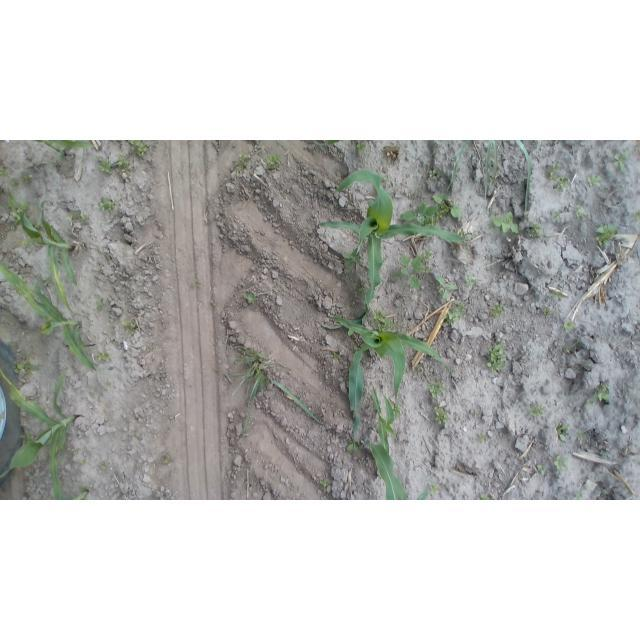Maize: (316, 167, 466, 329), (329, 314, 453, 450), (0, 261, 106, 376), (0, 365, 78, 500), (7, 186, 80, 314), (362, 439, 430, 500), (370, 386, 398, 455), (34, 140, 95, 162), (63, 490, 89, 500), (313, 141, 359, 146)
Weeds: (234, 344, 323, 428), (447, 140, 534, 212), (392, 254, 424, 291), (399, 202, 437, 225), (433, 194, 462, 219), (439, 302, 465, 327), (492, 211, 520, 233), (487, 340, 506, 372), (436, 275, 458, 302), (9, 198, 28, 226), (371, 309, 395, 331), (596, 224, 616, 247), (14, 358, 41, 375), (343, 248, 361, 269), (129, 140, 148, 157), (614, 152, 629, 173), (98, 197, 116, 213), (596, 384, 611, 403), (434, 406, 449, 425), (554, 421, 567, 442), (525, 221, 541, 238), (116, 156, 131, 174), (120, 319, 136, 334), (97, 160, 113, 175), (546, 163, 560, 180), (429, 382, 443, 399), (528, 404, 546, 417), (429, 166, 445, 180), (236, 153, 248, 171), (575, 205, 590, 219), (347, 440, 363, 453), (556, 179, 569, 194), (554, 455, 567, 470), (268, 154, 281, 168), (490, 303, 503, 316), (353, 280, 367, 292), (562, 322, 577, 333), (587, 175, 601, 186), (391, 404, 401, 419), (243, 292, 258, 302), (464, 275, 476, 287), (97, 351, 111, 361), (31, 219, 43, 230), (537, 463, 546, 477), (355, 141, 366, 152), (320, 478, 329, 490), (430, 483, 439, 495), (423, 250, 432, 262), (478, 432, 487, 442), (477, 494, 492, 500), (22, 173, 31, 183), (42, 276, 52, 285), (0, 165, 8, 176), (329, 352, 340, 360), (96, 297, 103, 309), (542, 308, 551, 317), (554, 212, 563, 221), (577, 432, 586, 441), (98, 462, 107, 470), (586, 398, 595, 406), (353, 345, 361, 354), (565, 347, 573, 354), (81, 214, 88, 222), (416, 364, 424, 371), (104, 381, 110, 390), (22, 434, 27, 444), (558, 291, 565, 298), (13, 179, 20, 186), (397, 318, 404, 325), (424, 267, 431, 274), (211, 299, 217, 307), (635, 210, 640, 219), (162, 457, 169, 463), (94, 155, 100, 162), (69, 213, 75, 220), (71, 448, 77, 454), (80, 485, 86, 491), (381, 176, 388, 181), (600, 451, 605, 458), (461, 227, 466, 233), (132, 430, 137, 436), (604, 489, 609, 494), (362, 389, 366, 395), (80, 460, 86, 464), (472, 233, 476, 239), (192, 282, 197, 286), (394, 234, 398, 238)
